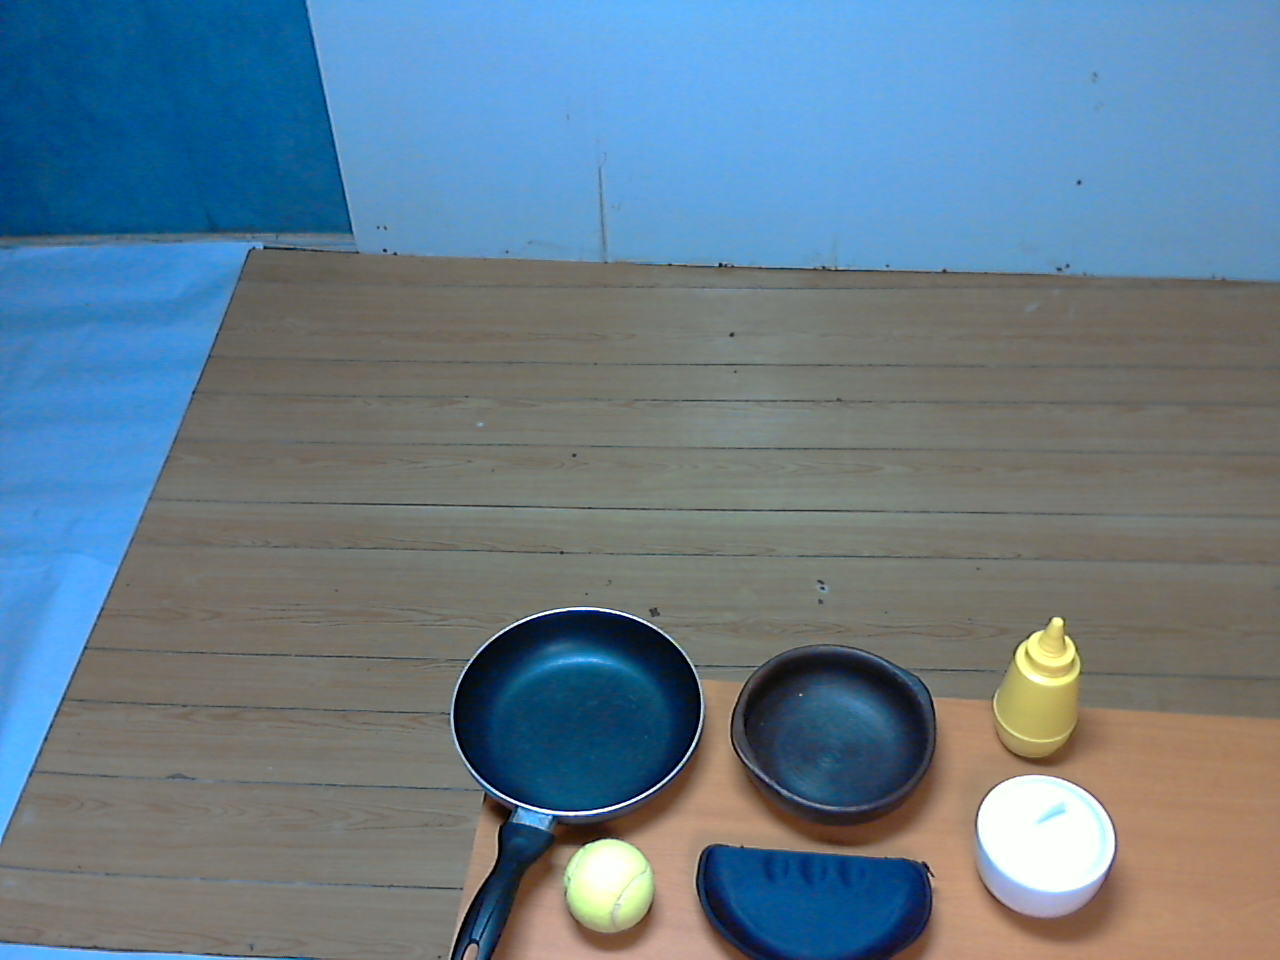azucarero: (961, 767, 1129, 928)
estuche: (689, 832, 947, 960)
greda: (720, 642, 949, 829)
mostaza: (986, 609, 1094, 773)
pelota: (556, 836, 665, 948)
sarten: (429, 603, 712, 960)
